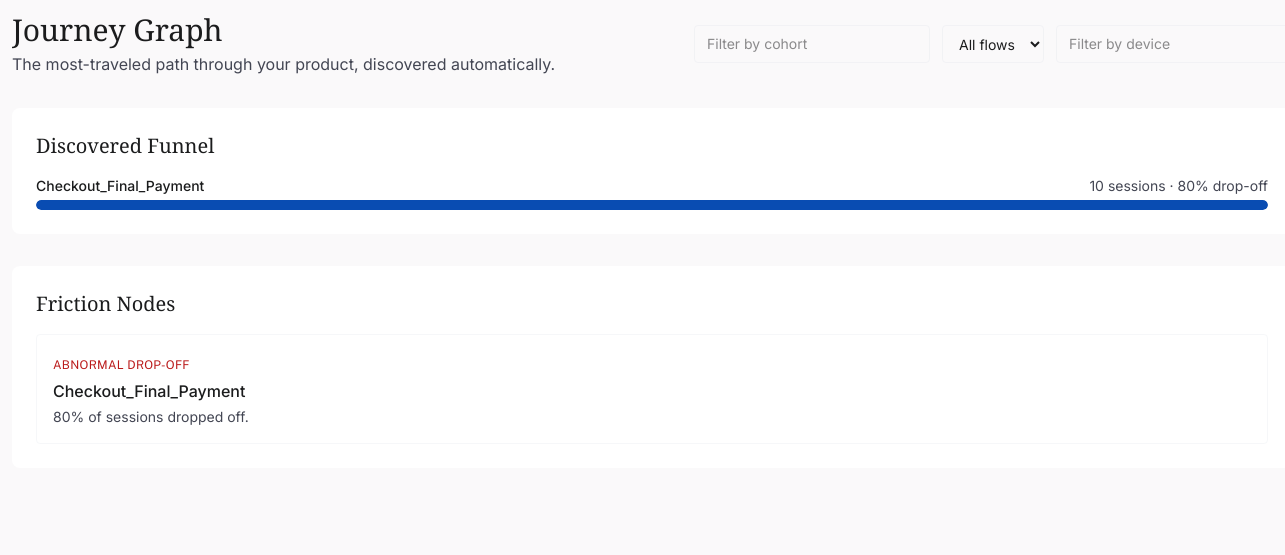
Test case: JourneyGraphPage › opens the Node Intelligence aside when a friction node is clicked
The width and height of the screenshot is (1285, 555).
Click the button "Checkout_Final_Payment".
click(121, 365)  # box [36, 334, 1268, 444]
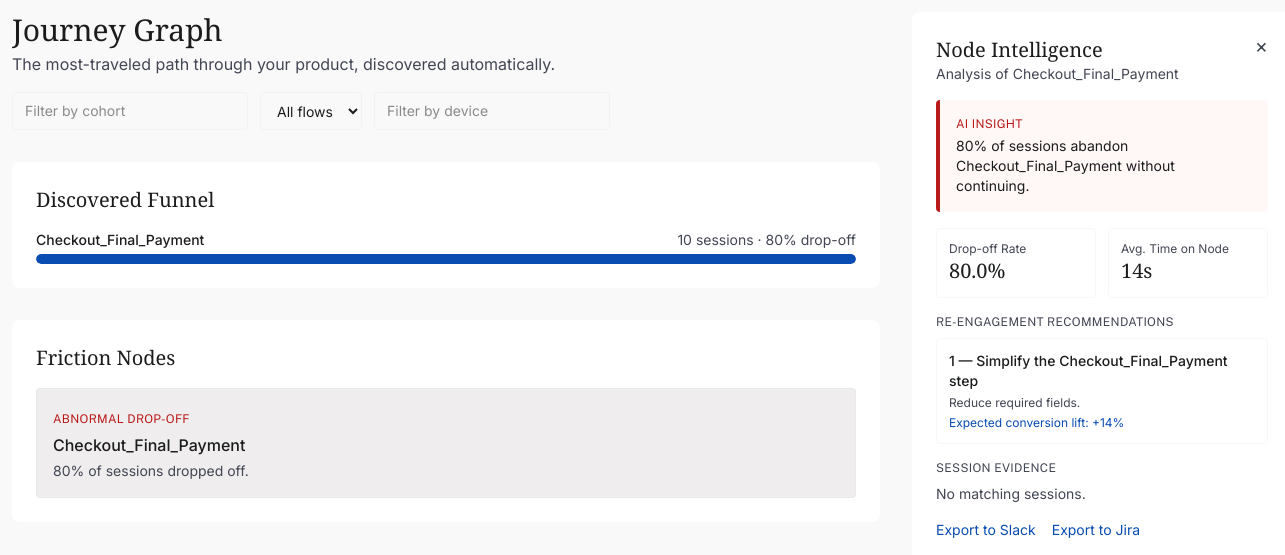
Result: the heading "Node Intelligence" is shown at [936, 36, 1103, 63]
Result: the text "80% of sessions abandon" is shown at [956, 137, 1175, 194]
Result: the text "1 — Simplify the Checkout_Final_Payment step" is shown at [949, 351, 1255, 391]
